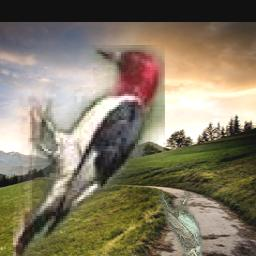Sparrow: (159, 187, 204, 256)
Woodpecker: (13, 45, 165, 256)
